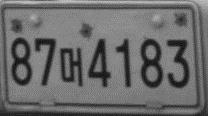1: (114, 37, 132, 87)
3: (166, 38, 189, 88)
4: (87, 37, 111, 87)
7: (34, 36, 56, 86)
8: (139, 37, 163, 88), (10, 36, 32, 85)
머: (59, 46, 83, 87)
